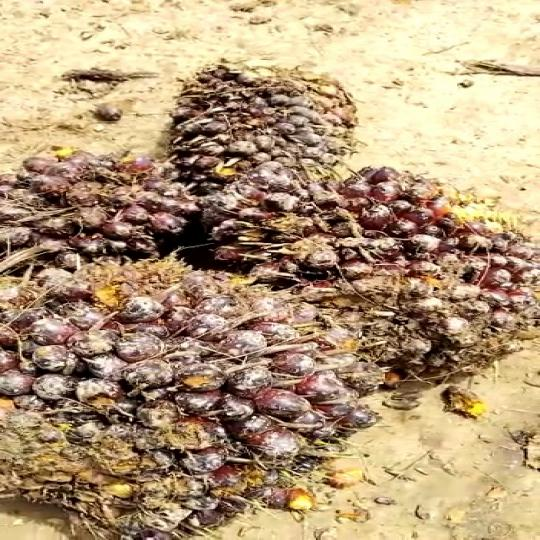kurang masak: (0, 255, 383, 540), (215, 168, 540, 400), (167, 58, 389, 233), (0, 143, 167, 270)
